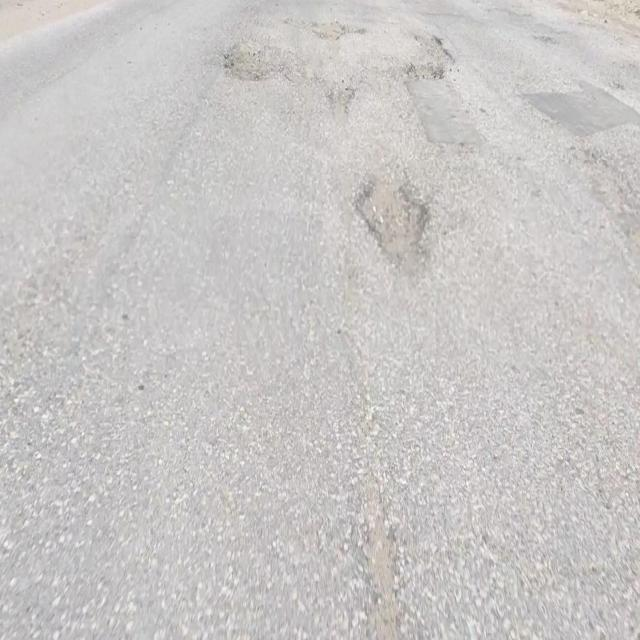Potholes: (353, 157, 430, 275), (404, 32, 457, 81), (224, 38, 279, 84), (312, 19, 365, 40)
